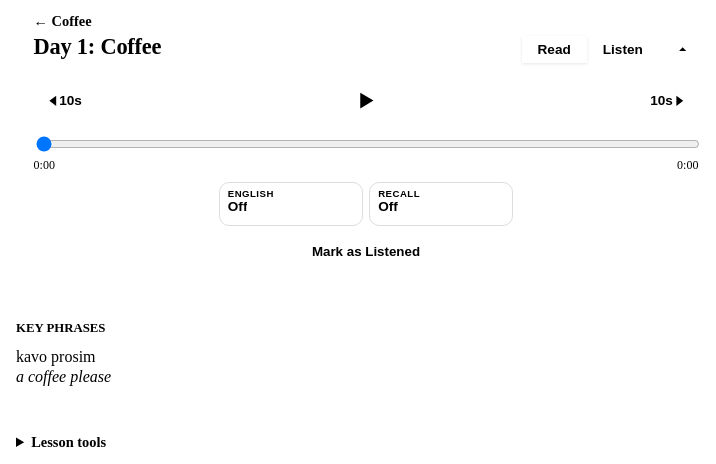
Test: /c/[curriculumId]/l/[lessonId] page › B1 — check-your-work link and fully-acquired state › singular '1 word' in check-your-work link when N=1
Step 1. Click the button "Listen" → (623, 50), box [587,36,659,63]
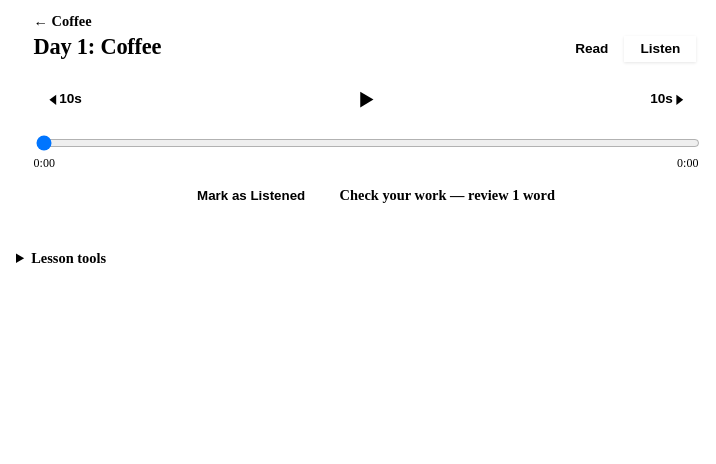
Check: the link "Check your work — review 1 word" is shown, box [340,187,555,204]
